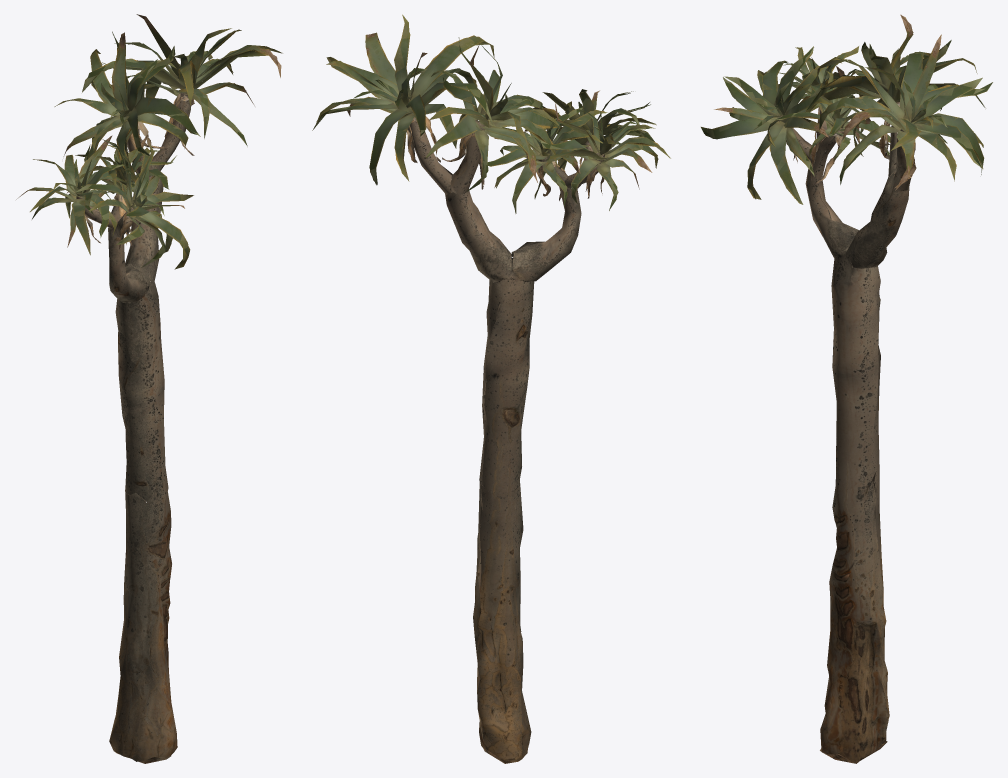
Rendered from quiver_tree.glb.
3 views of the same model, side by side, from view 1: azimuth 30°, elevation 25°; view 2: azimuth 150°, elevation 25°; view 3: azimuth 270°, elevation 25° (orthographic). The views are drawn at different scales.
Visible parts, largest first — view 1: quiver_tree_01; view 2: quiver_tree_01; view 3: quiver_tree_01.
Boxes of the visible parts, x1,y1,x2,y2 form: quiver_tree_01: (16,14,282,763); quiver_tree_01: (312,14,670,763); quiver_tree_01: (701,14,992,763).
Size of the model in its own units: 1.18 by 2.71 by 0.9704.
2 materials, 2 textured.
